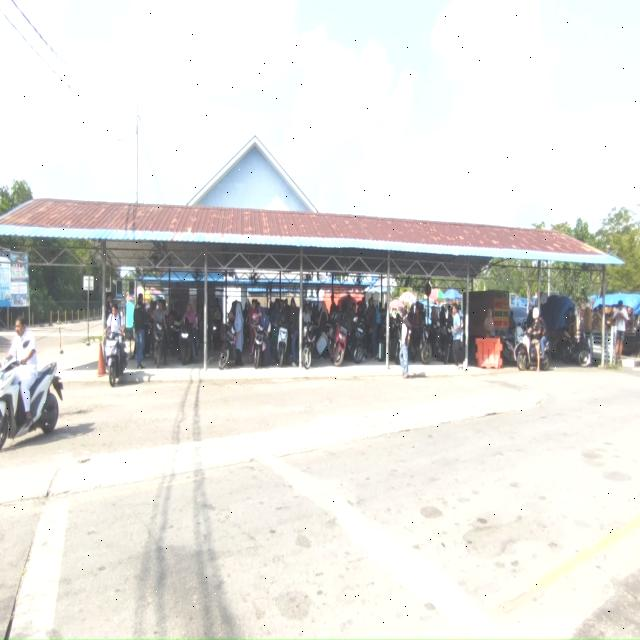Golongan II: (0, 358, 63, 450), (516, 332, 550, 371), (104, 332, 127, 387), (554, 335, 591, 367), (347, 316, 366, 364), (501, 326, 524, 364), (218, 324, 236, 370), (332, 318, 348, 366), (179, 318, 195, 365), (302, 324, 318, 369), (253, 320, 266, 370), (152, 322, 166, 367), (419, 324, 433, 364), (168, 320, 181, 357), (277, 326, 288, 367)
